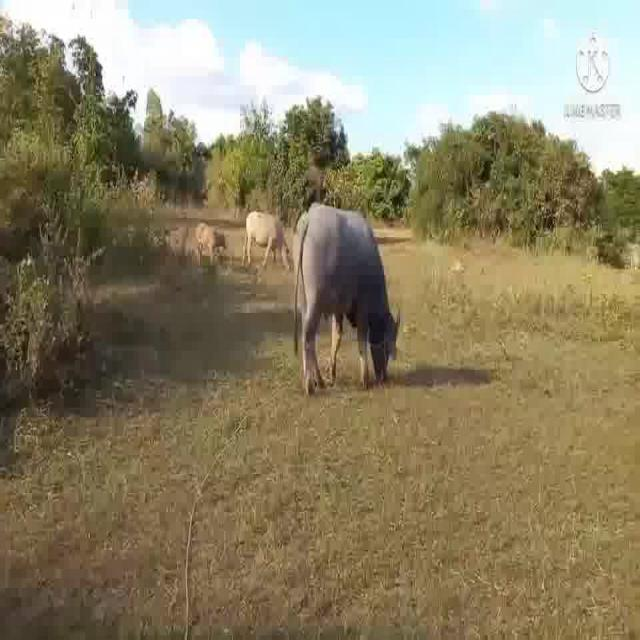buffalo: (296, 202, 409, 400), (238, 207, 289, 272)
